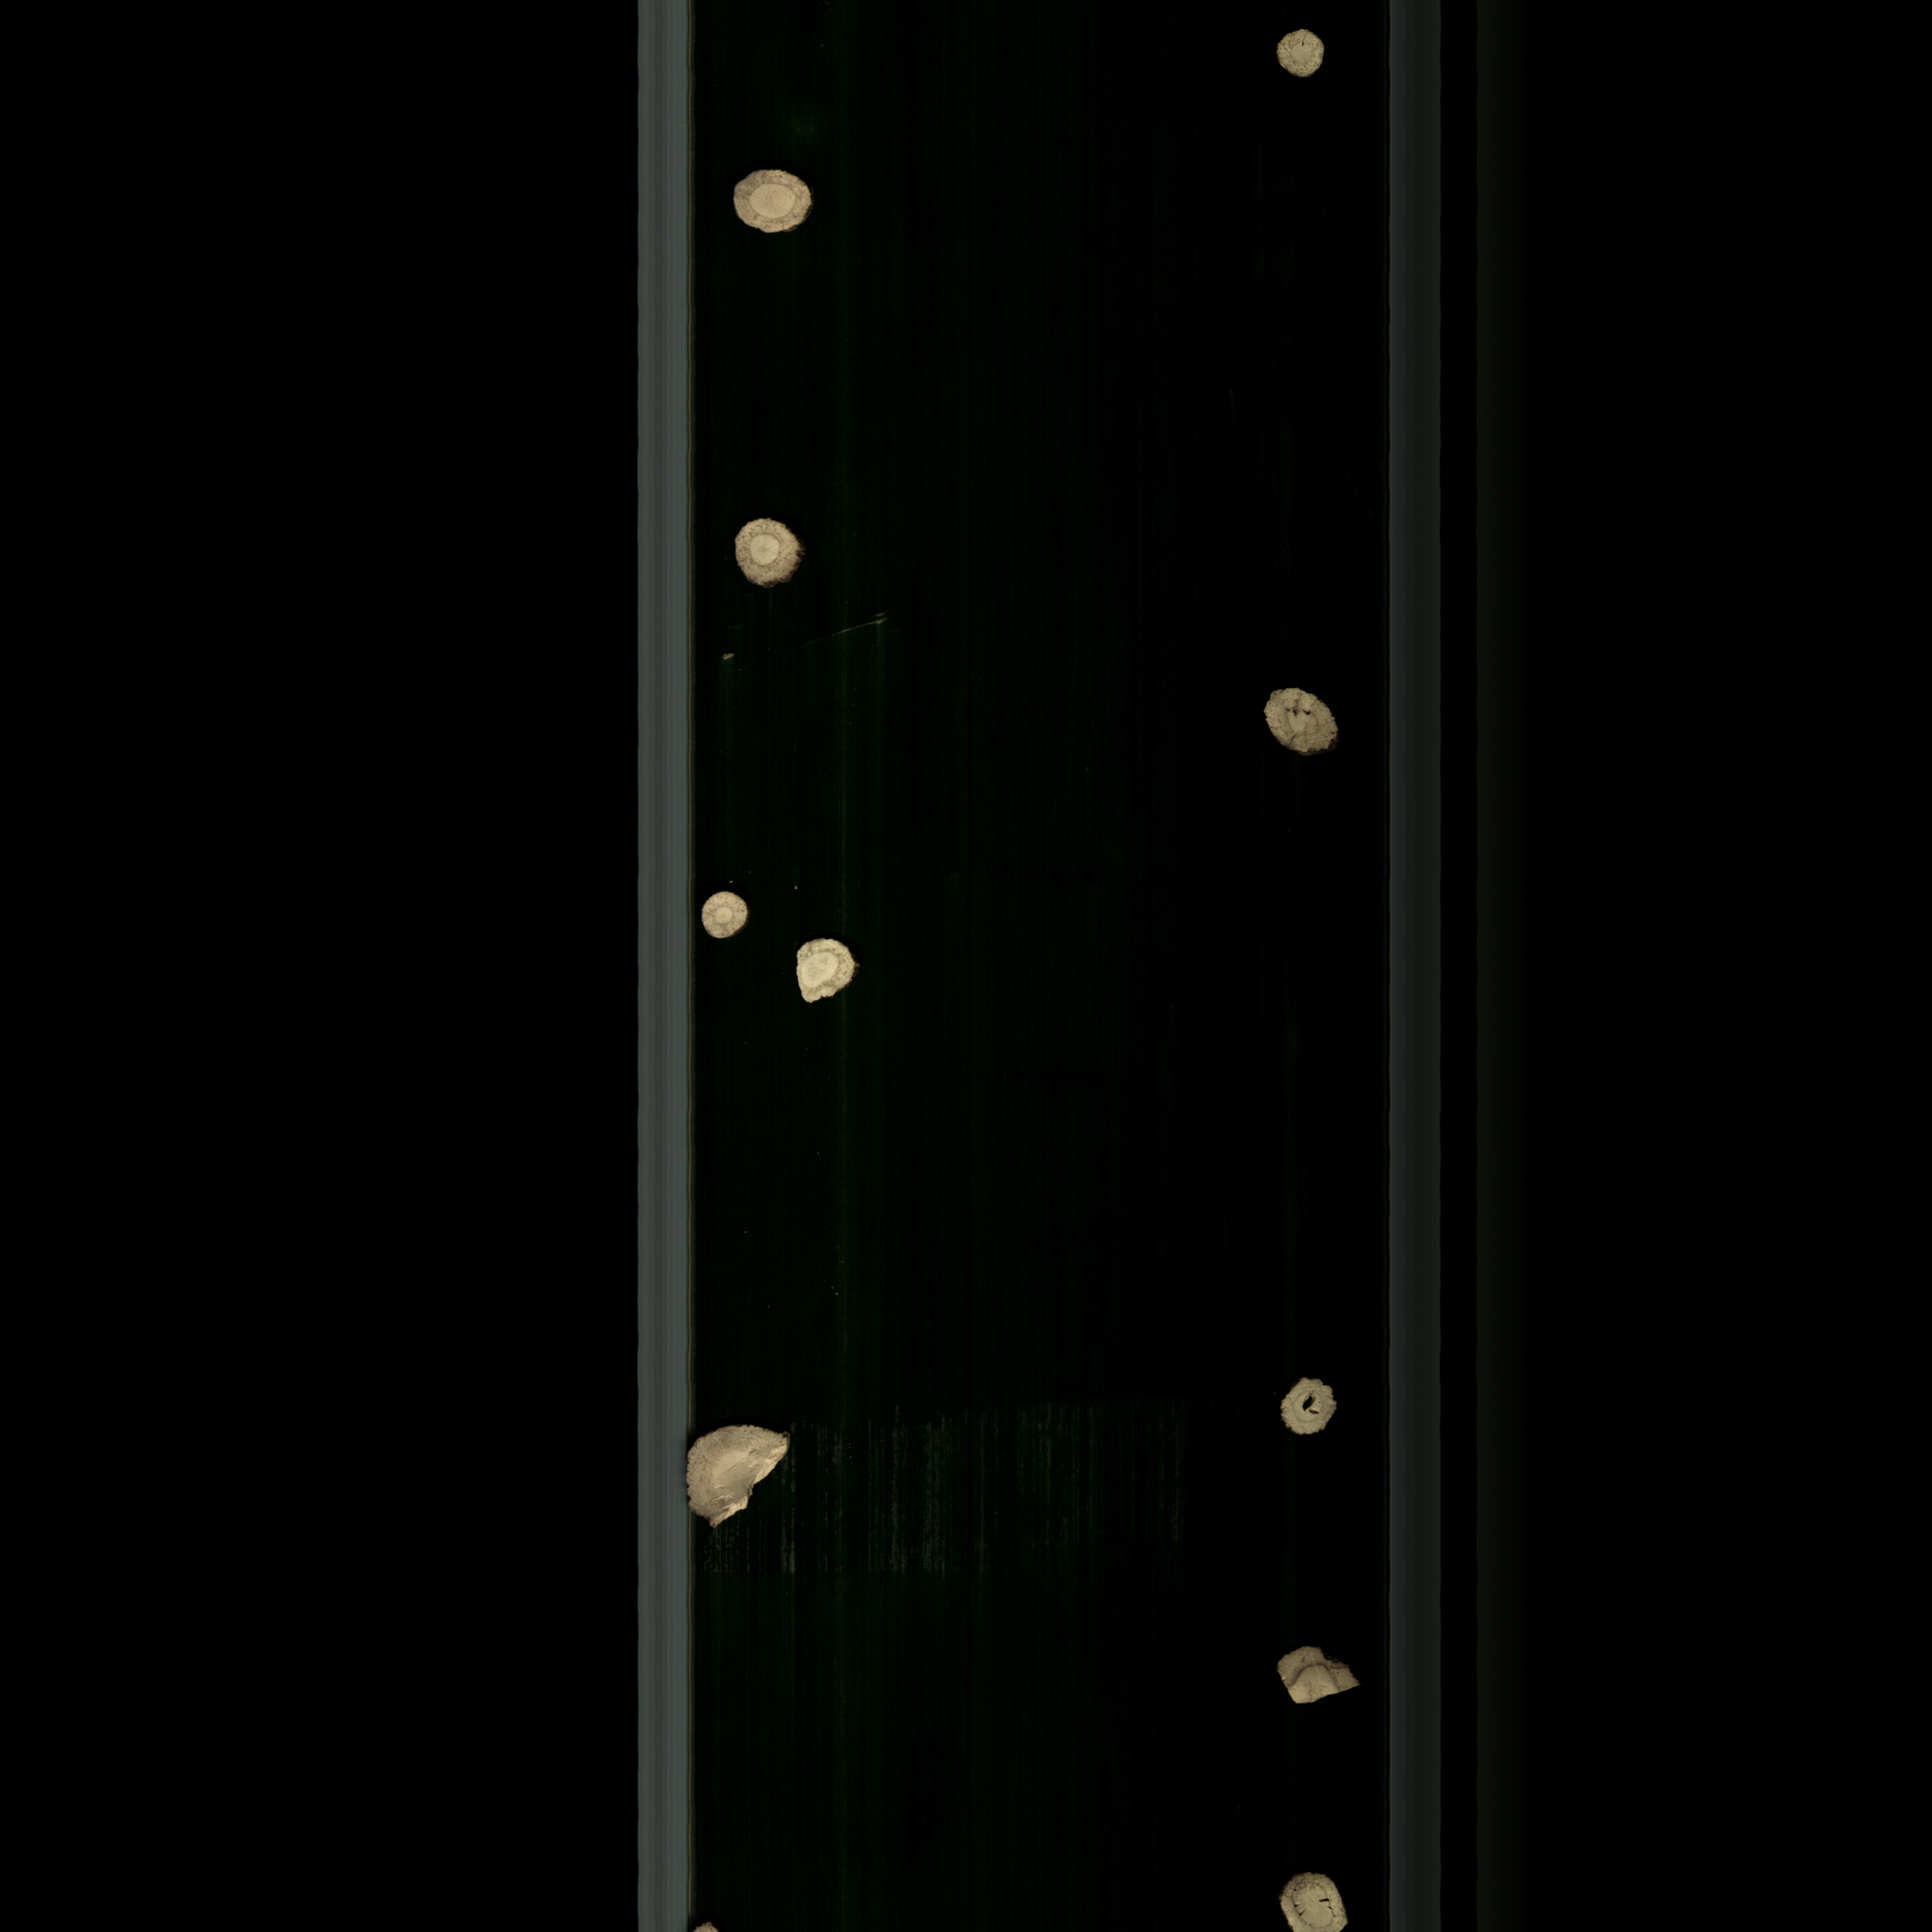debris: (674, 1417, 810, 1543), (1260, 1642, 1368, 1723), (784, 936, 865, 1012)
hole: (1263, 1865, 1359, 1932), (1274, 1369, 1348, 1447)
moldy: (1254, 685, 1352, 768), (1265, 28, 1334, 90)
